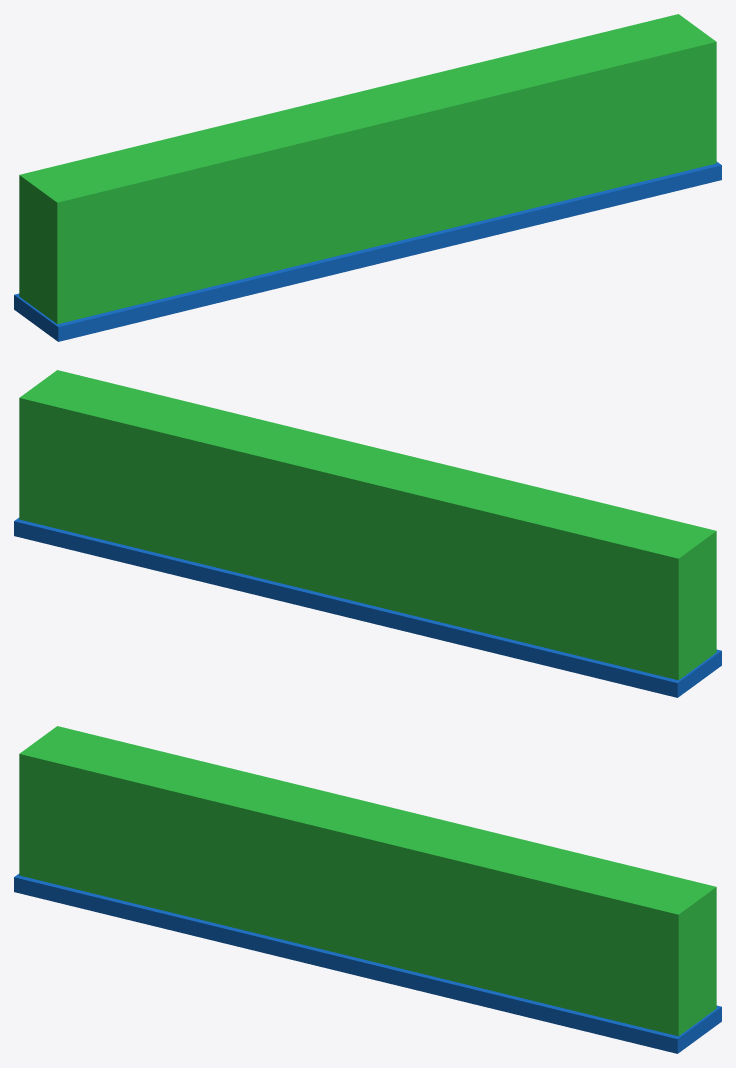
Rendered from SM_wall7.fbx.
The picture shows the model from 3 angles, top to bottom: view 1: azimuth 30°, elevation 25°; view 2: azimuth 150°, elevation 25°; view 3: azimuth 330°, elevation 25°; orthographic projection.
Visible parts, largest first — view 1: wall7; view 2: wall7; view 3: wall7.
Boxes of the visible parts, x1,y1,x2,y2 form: wall7: (14,14,721,341); wall7: (14,370,721,697); wall7: (14,726,721,1053).
Size of the model in its own units: 302 by 59.32 by 34.93.
